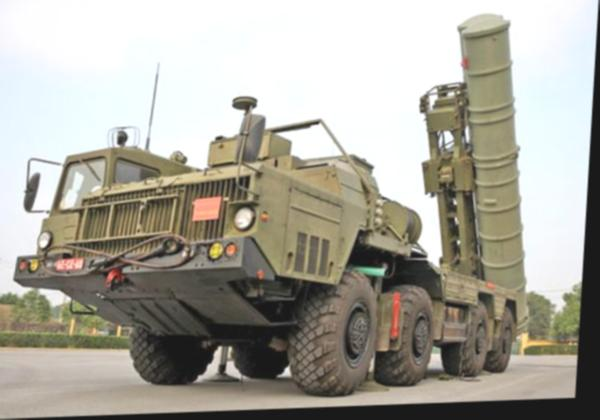License_Plate: (52, 254, 86, 272)
